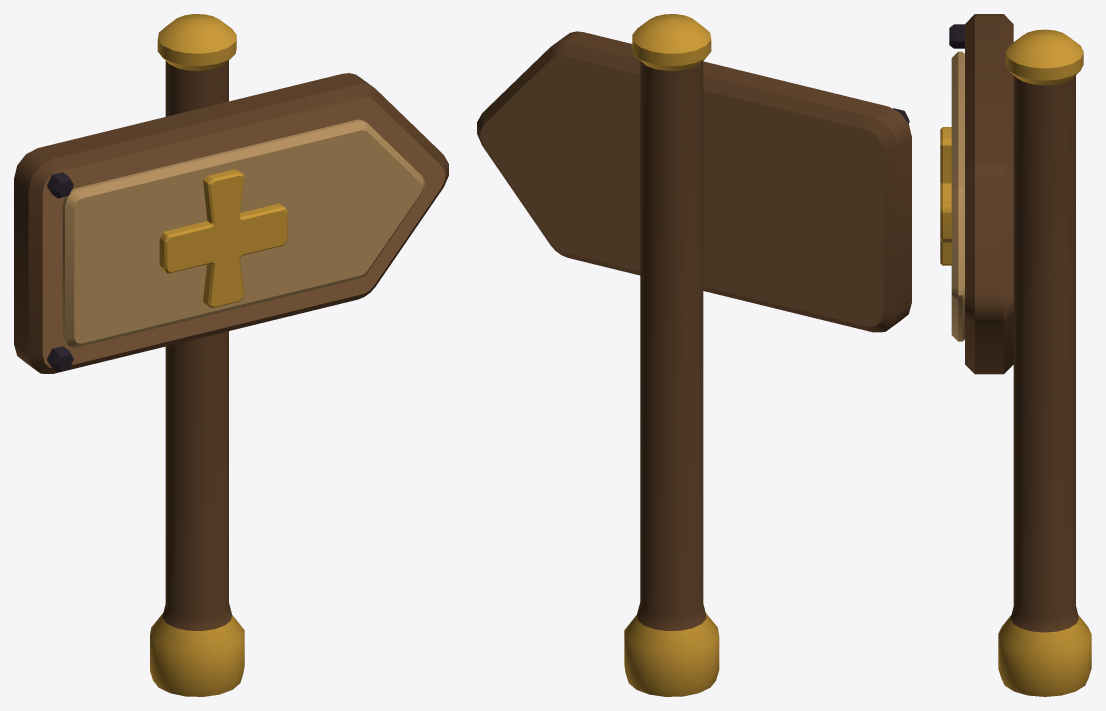
The model's file is Sign_14.glb.
3 renders of one model, left to right at view 1: azimuth 30°, elevation 25°; view 2: azimuth 150°, elevation 25°; view 3: azimuth 270°, elevation 25°, orthographic. The views are drawn at different scales.
Parts seen in each view (by area): view 1: Sign_14; view 2: Sign_14; view 3: Sign_14.
Boxes of the visible parts, x1,y1,x2,y2 form: Sign_14: (14, 14, 448, 696); Sign_14: (477, 14, 911, 696); Sign_14: (940, 14, 1091, 696).
Bounding box in the file's own units: 2.13 × 3.19 × 0.68.
